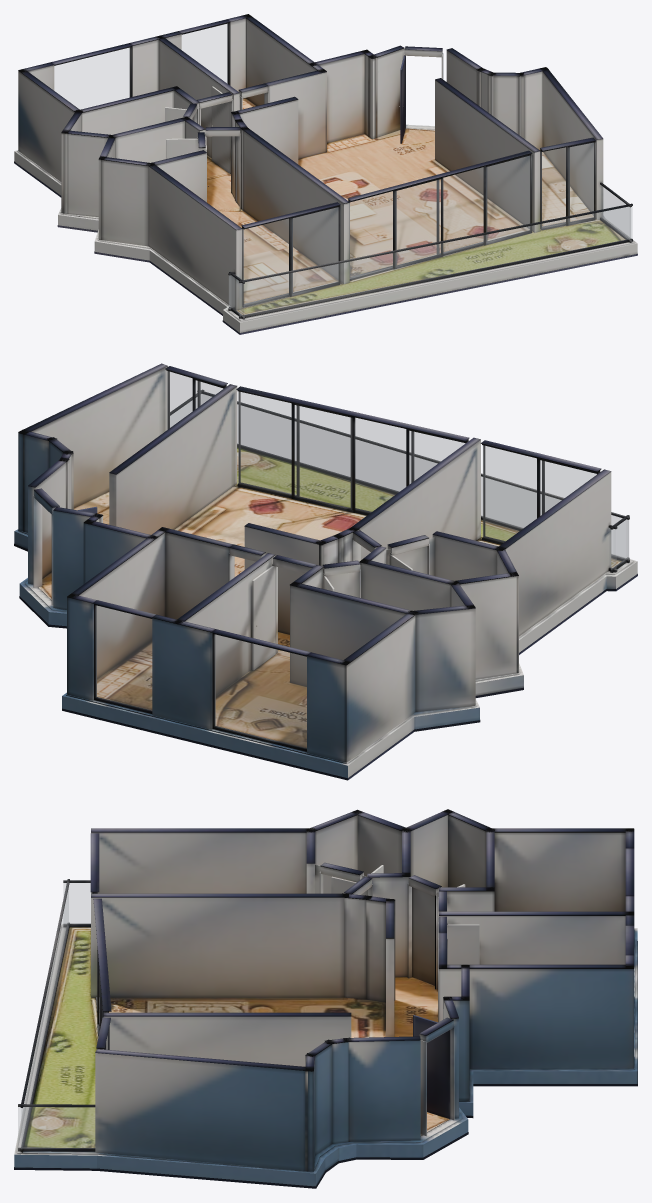
3 renders of one model, top to bottom at view 1: azimuth 30°, elevation 25°; view 2: azimuth 150°, elevation 25°; view 3: azimuth 270°, elevation 25°, orthographic. The views are drawn at different scales.
Parts seen in each view (by area): view 1: plan, railg1_m, glass3_m, glass2_m, glass4_m, glass0_m, glass1_m, railg0_m, railg2_m; view 2: plan, glass3_m, railg1_m, glass0_m, glass2_m, glass1_m, glass4_m, railg2_m; view 3: plan, railg0_m, railg1_m, railg2_m.
Boxes of the visible parts, x1=… form: plan: x1=14, y1=14, x2=637, y2=334; railg1_m: x1=239, y1=206, x2=632, y2=315; glass3_m: x1=350, y1=156, x2=529, y2=277; glass2_m: x1=243, y1=207, x2=338, y2=304; glass4_m: x1=541, y1=143, x2=593, y2=227; glass0_m: x1=54, y1=48, x2=129, y2=109; glass1_m: x1=182, y1=24, x2=227, y2=83; railg0_m: x1=601, y1=185, x2=630, y2=239; railg2_m: x1=230, y1=275, x2=244, y2=316; plan: x1=14, y1=363, x2=637, y2=780; glass3_m: x1=238, y1=391, x2=464, y2=512; railg1_m: x1=202, y1=394, x2=628, y2=559; glass0_m: x1=215, y1=634, x2=306, y2=748; glass2_m: x1=483, y1=445, x2=596, y2=542; glass1_m: x1=96, y1=605, x2=151, y2=710; glass4_m: x1=167, y1=371, x2=222, y2=429; railg2_m: x1=611, y1=520, x2=628, y2=569; plan: x1=14, y1=809, x2=637, y2=1188; railg0_m: x1=18, y1=1107, x2=94, y2=1148; railg1_m: x1=21, y1=889, x2=68, y2=1148; railg2_m: x1=63, y1=883, x2=90, y2=923.
Size of the model in its own units: 12.83 by 2.62 by 12.74.
2 materials, 1 textured.
